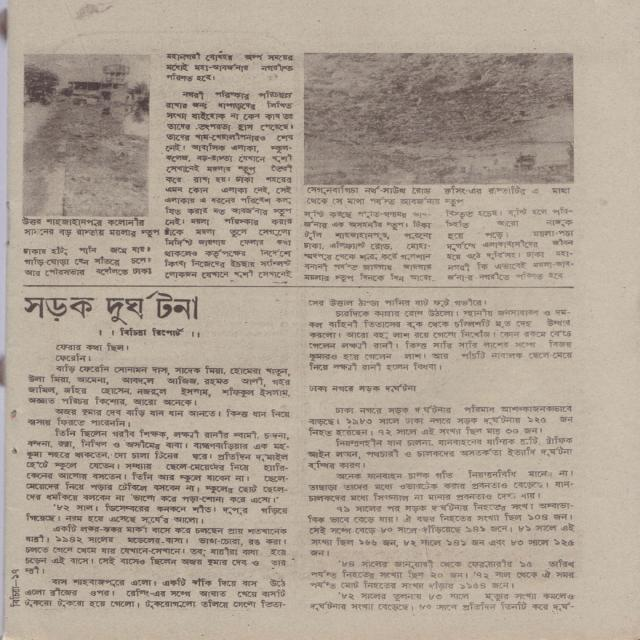caption: (302, 183, 573, 207), (20, 215, 162, 239)
image: (303, 53, 574, 181), (22, 54, 149, 214)
page number: (10, 568, 19, 579)
paragraph: (162, 88, 295, 281), (22, 427, 292, 504), (306, 307, 577, 374), (306, 501, 578, 559), (21, 523, 291, 575), (23, 363, 295, 408), (441, 205, 579, 283), (298, 208, 438, 283), (299, 435, 576, 472), (304, 467, 575, 504), (303, 402, 578, 437), (22, 576, 289, 610), (305, 557, 578, 590), (22, 503, 291, 526), (25, 407, 293, 429), (306, 591, 578, 612), (20, 244, 154, 279), (163, 49, 297, 84), (303, 292, 492, 308), (53, 342, 129, 353), (54, 353, 90, 363)
text: (112, 327, 186, 338), (9, 585, 21, 608)
title: (19, 290, 203, 326), (305, 382, 419, 395)
